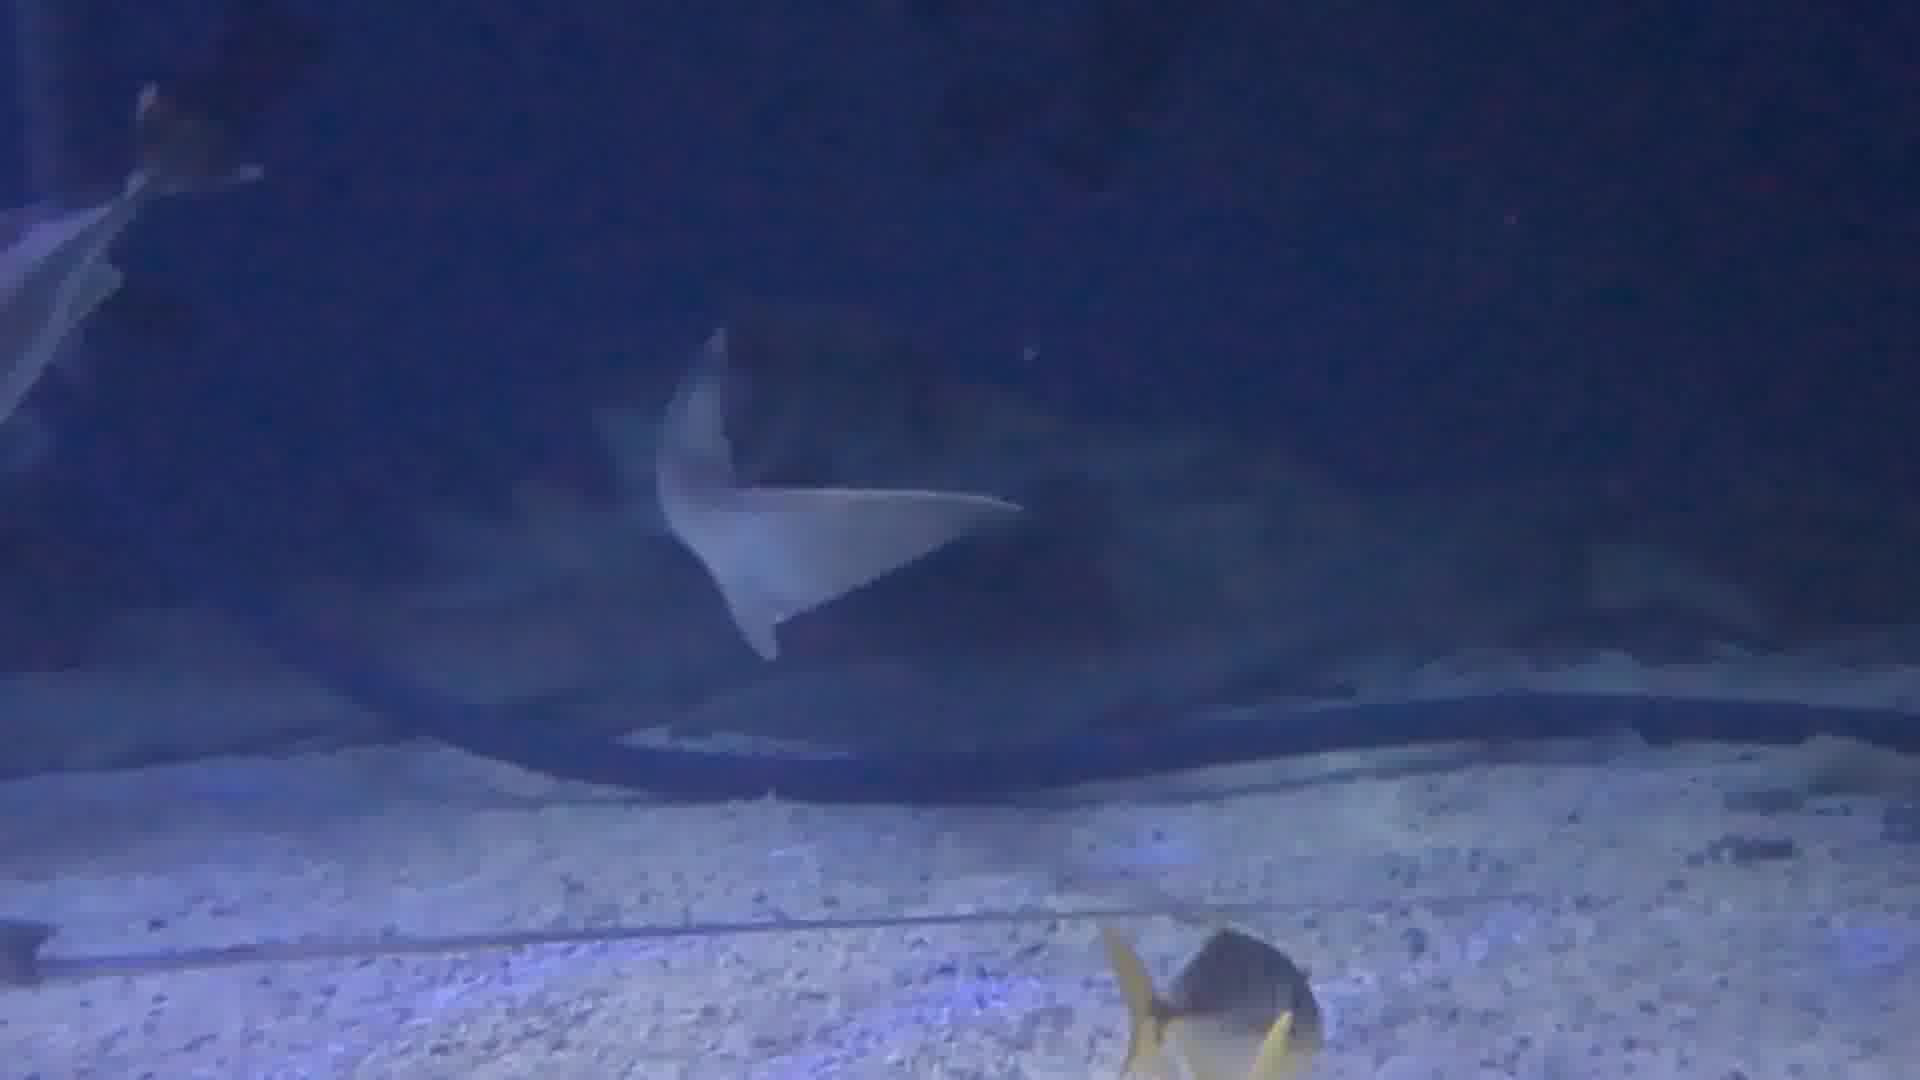Nebrius ferrugineus: (638, 340, 1023, 661)
